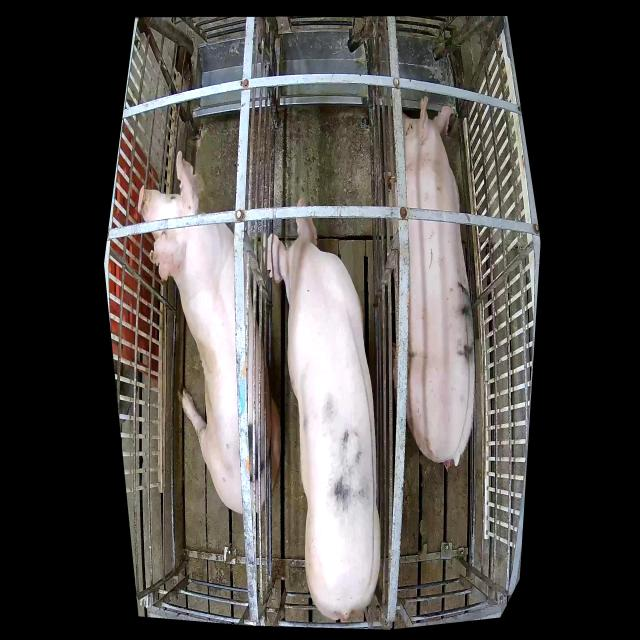pig: (138, 149, 280, 516), (264, 196, 380, 621), (402, 97, 475, 468)
